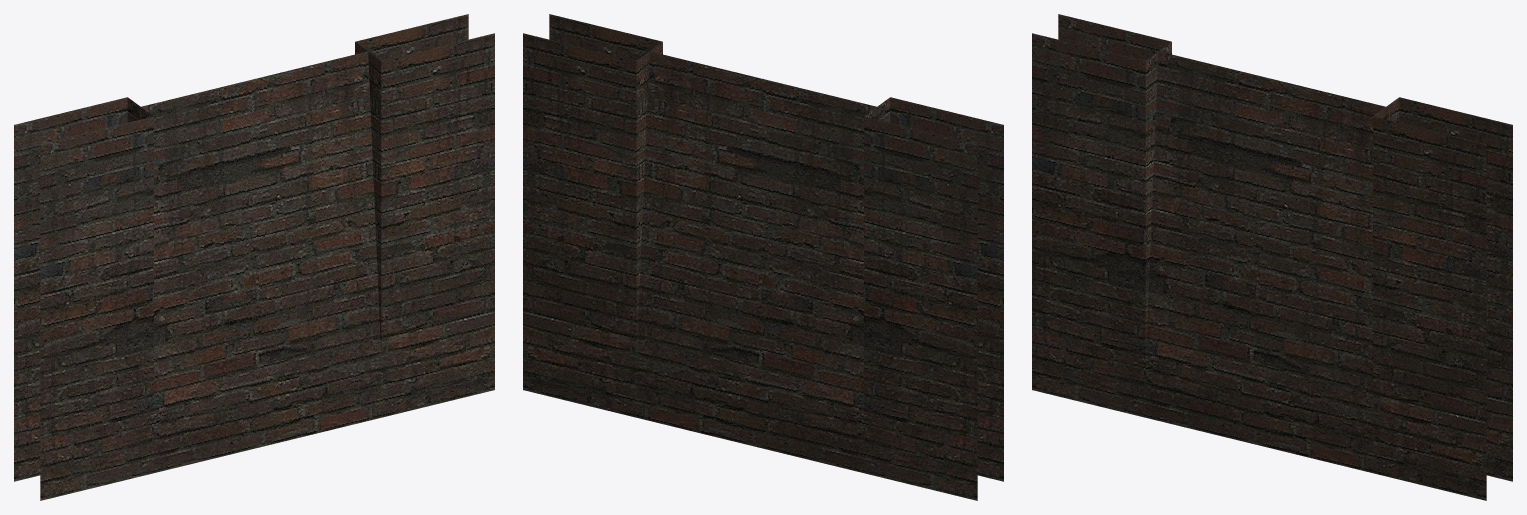
Rendered from wall_hs_1_t_1.glb.
The picture shows the model from 3 angles, left to right: view 1: azimuth 30°, elevation 25°; view 2: azimuth 150°, elevation 25°; view 3: azimuth 330°, elevation 25°; orthographic projection.
Visible parts, largest first — view 1: wall_hs_1_t_1; view 2: wall_hs_1_t_1; view 3: wall_hs_1_t_1.
Boxes of the visible parts, x1,y1,x2,y2 form: wall_hs_1_t_1: [14, 14, 494, 500]; wall_hs_1_t_1: [523, 14, 1003, 500]; wall_hs_1_t_1: [1032, 14, 1512, 500].
Size of the model in its own units: 4 by 3 by 0.4.
1 material, 1 textured.
